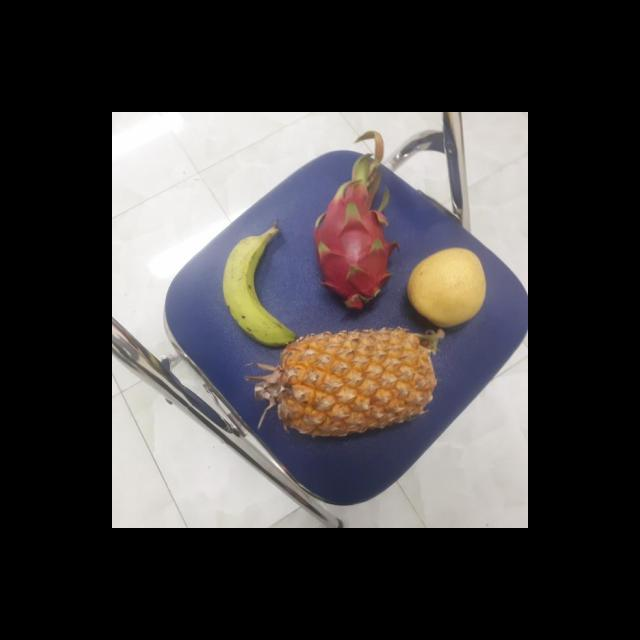banana: (221, 226, 293, 344)
pear: (405, 242, 490, 326)
pineapple: (264, 327, 436, 435)
pitaya: (310, 175, 396, 306)
